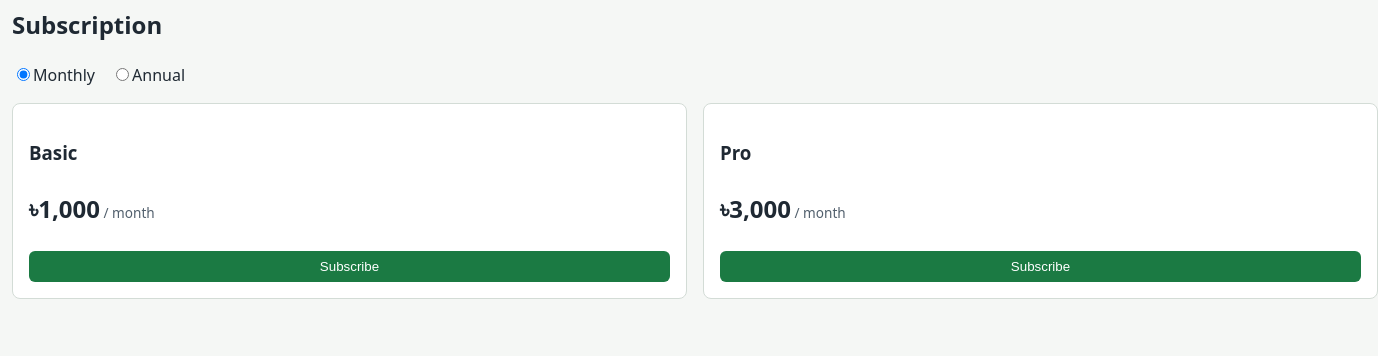
Test case: SubscriptionPlans › subscribes to a plan when its button is clicked
Expected: the heading "Basic" is shown, top-left (29, 140), bottom-right (78, 164)
Click the button "Subscribe" below "৳1,000" at (350, 266), box top-left (29, 251), bottom-right (670, 282)
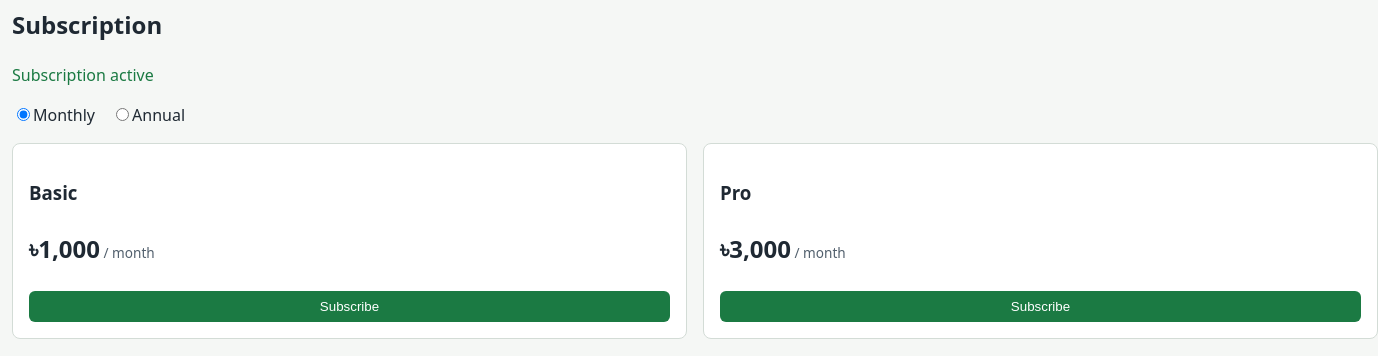
Now the text "Subscription active" is shown, box top-left (12, 64), bottom-right (154, 86)
